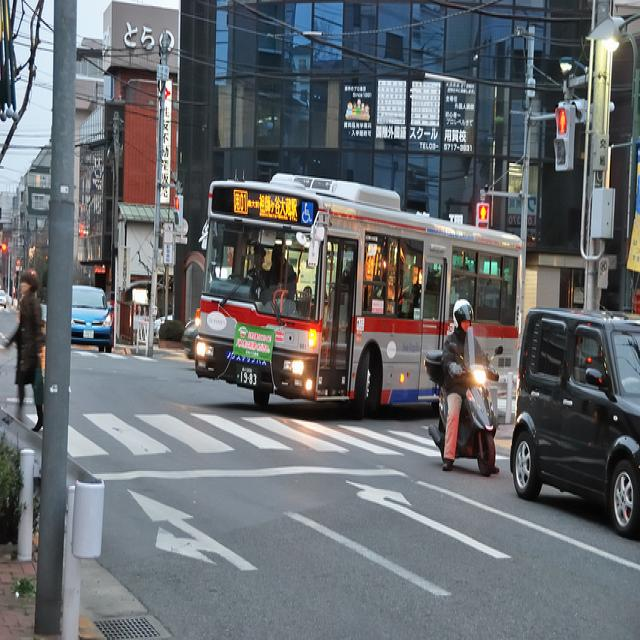motor: (424, 341, 504, 476)
